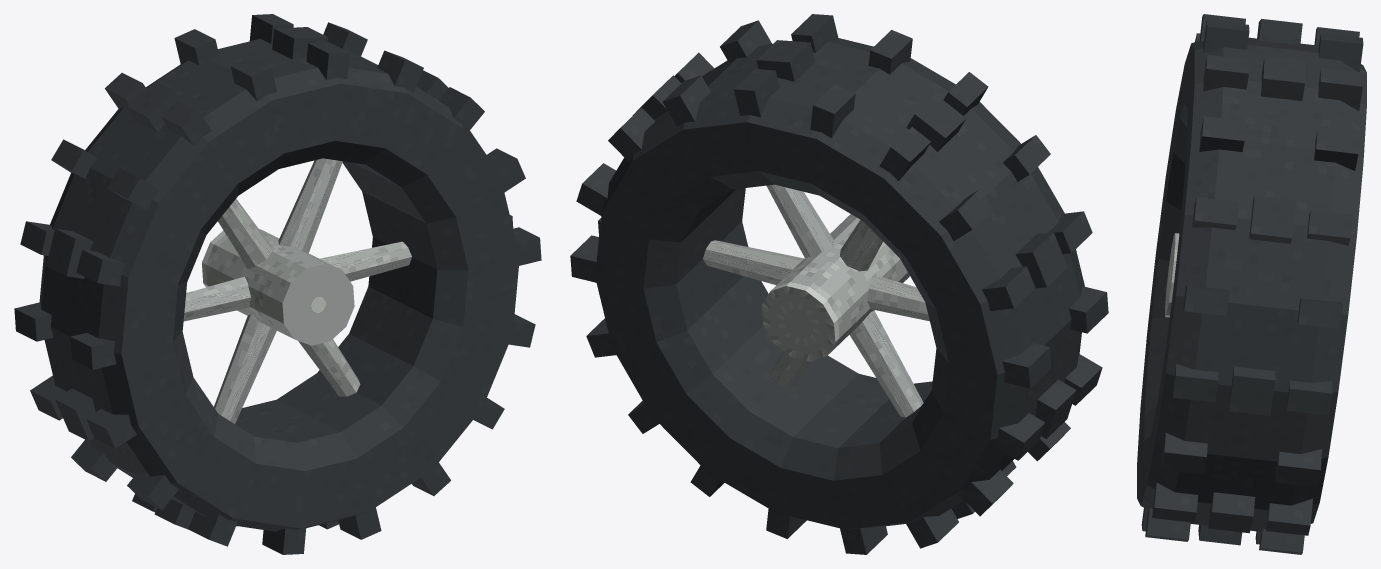
Rendered from wheel_motorbike_or.glb.
The picture shows the model from 3 angles, left to right: view 1: azimuth 30°, elevation 25°; view 2: azimuth 150°, elevation 25°; view 3: azimuth 270°, elevation 25°; orthographic projection. The views are drawn at different scales.
Parts seen in each view (by area): view 1: block_wheel cross section, block_raised off-road stud (×25), block_radial spoke (×6), block_wheel hub, block_center block (×5); view 2: block_wheel cross section, block_raised off-road stud (×24), block_radial spoke (×6), block_wheel hub, block_center block (×5); view 3: block_wheel cross section, block_raised off-road stud (×20), block_center block (×6), block_wheel hub.
Part boxes in pixels (x1,y1,x2,y2): block_wheel cross section: (39, 39, 519, 531); block_raised off-road stud (×25): (14, 14, 541, 554); block_radial spoke (×6): (183, 158, 411, 423); block_wheel hub: (202, 229, 354, 345); block_center block (×5): (46, 27, 327, 529); block_wheel cross section: (595, 38, 1084, 529); block_raised off-road stud (×24): (570, 14, 1108, 554); block_radial spoke (×6): (703, 184, 929, 417); block_wheel hub: (761, 214, 909, 361); block_center block (×5): (632, 40, 1076, 438); block_wheel cross section: (1137, 37, 1366, 531); block_raised off-road stud (×20): (1145, 14, 1363, 554); block_center block (×6): (1198, 19, 1305, 545); block_wheel hub: (1165, 233, 1179, 317).
Size of the model in its own units: 0.4978 by 0.508 by 0.217.
1 material, 1 textured.
